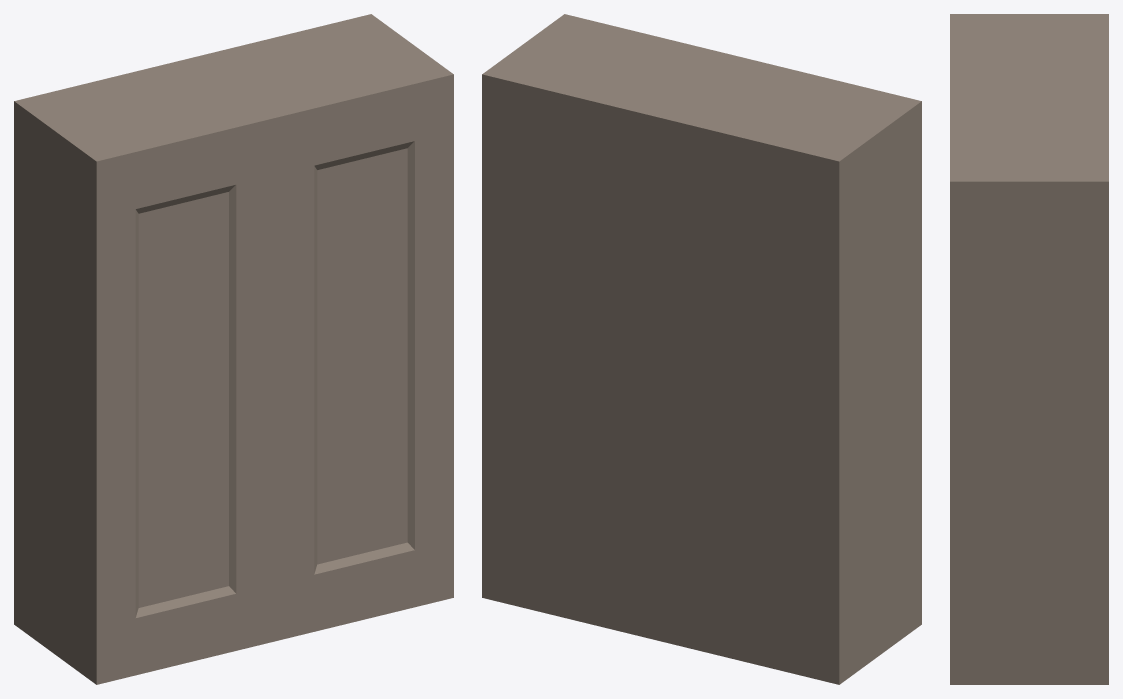
File: WHP-Wall-Cabinet-Double-Door-Shelves_std_001_H42in_onlyH.glb
The picture shows the model from 3 angles, left to right: view 1: azimuth 30°, elevation 25°; view 2: azimuth 150°, elevation 25°; view 3: azimuth 270°, elevation 25°; orthographic projection. The views are drawn at different scales.
Parts seen in each view (by area): view 1: WHP-Wall-Cabinet-Double-Door-Shelves.std.001_H42in_onlyH; view 2: WHP-Wall-Cabinet-Double-Door-Shelves.std.001_H42in_onlyH; view 3: WHP-Wall-Cabinet-Double-Door-Shelves.std.001_H42in_onlyH.
Boxes of the visible parts, left/top/right/bottom form: WHP-Wall-Cabinet-Double-Door-Shelves.std.001_H42in_onlyH: left=14, top=14, right=453, bottom=684; WHP-Wall-Cabinet-Double-Door-Shelves.std.001_H42in_onlyH: left=482, top=14, right=921, bottom=684; WHP-Wall-Cabinet-Double-Door-Shelves.std.001_H42in_onlyH: left=950, top=14, right=1108, bottom=684.
Size of the model in its own units: 0.762 by 1.07 by 0.3048.
